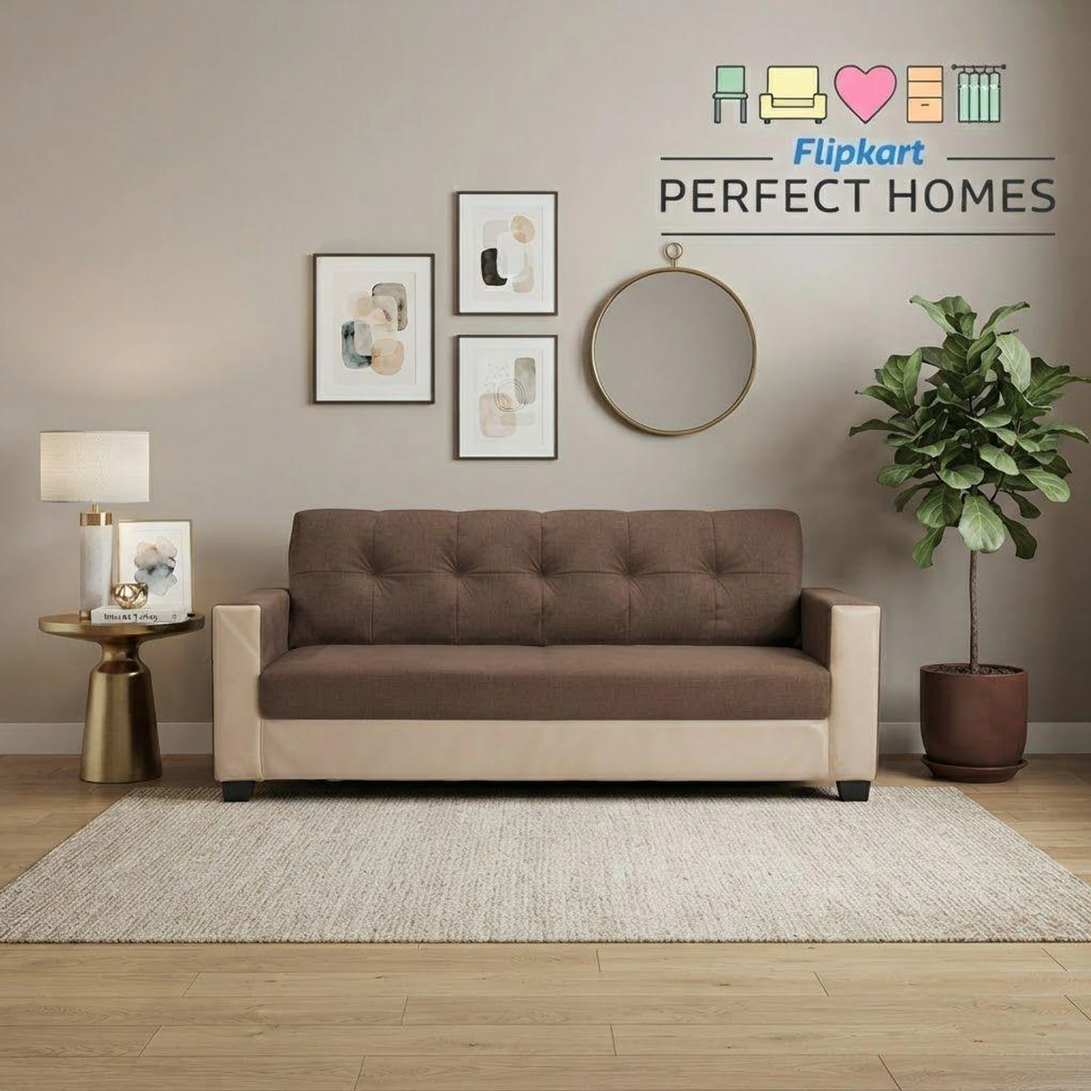3seatersofa: (214, 509, 878, 799)
backrest: (281, 509, 802, 648)
base: (262, 719, 826, 779)
leftarmrest: (803, 589, 879, 781)
leg: (222, 781, 254, 801), (837, 781, 870, 800)
rightarmrest: (213, 590, 287, 779)
seat: (259, 646, 830, 720)
